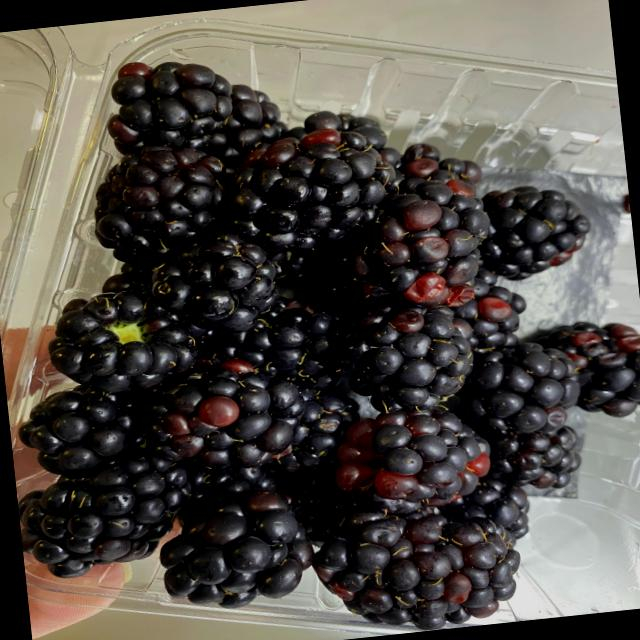blackberries: (0, 22, 637, 640)
